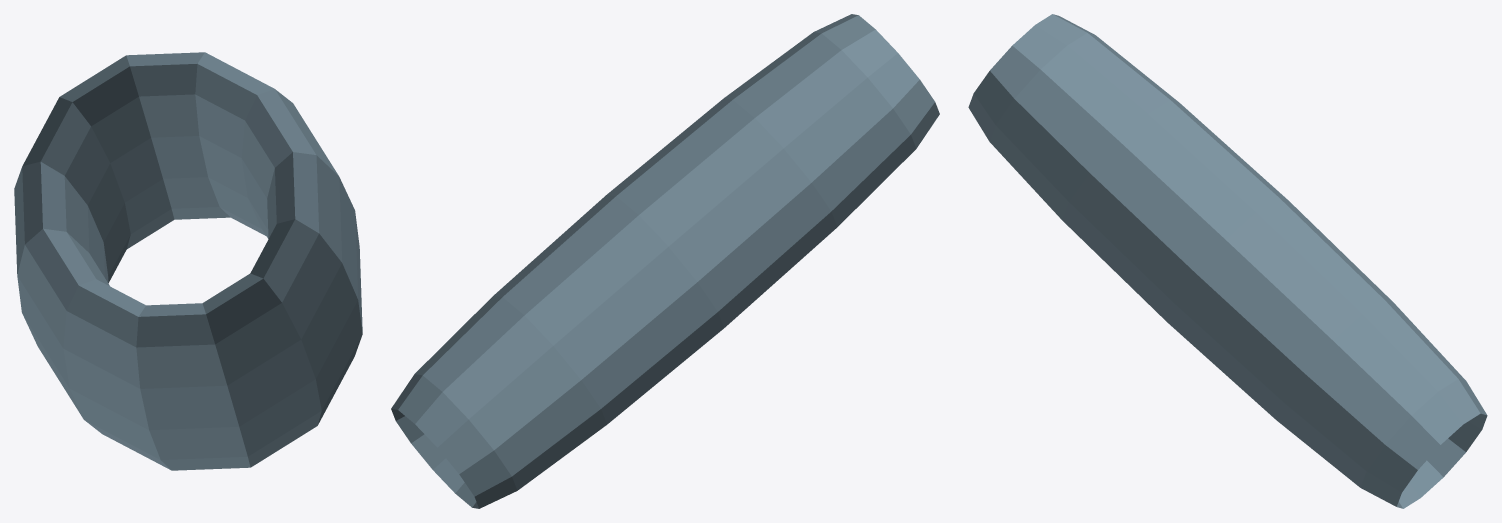
The model's file is astronaut_base_group734772326_lev4.glb.
The picture shows the model from 3 angles, left to right: view 1: azimuth 30°, elevation 25°; view 2: azimuth 150°, elevation 25°; view 3: azimuth 270°, elevation 25°; orthographic projection. The views are drawn at different scales.
Visible parts, largest first — view 1: astronaut_base_group734772326_lev4; view 2: astronaut_base_group734772326_lev4; view 3: astronaut_base_group734772326_lev4.
Boxes of the visible parts, x1,y1,x2,y2 form: astronaut_base_group734772326_lev4: [14, 52, 362, 470]; astronaut_base_group734772326_lev4: [391, 14, 939, 508]; astronaut_base_group734772326_lev4: [968, 14, 1487, 508].
Size of the model in its own units: 0.1193 by 0.1304 by 0.1599.
